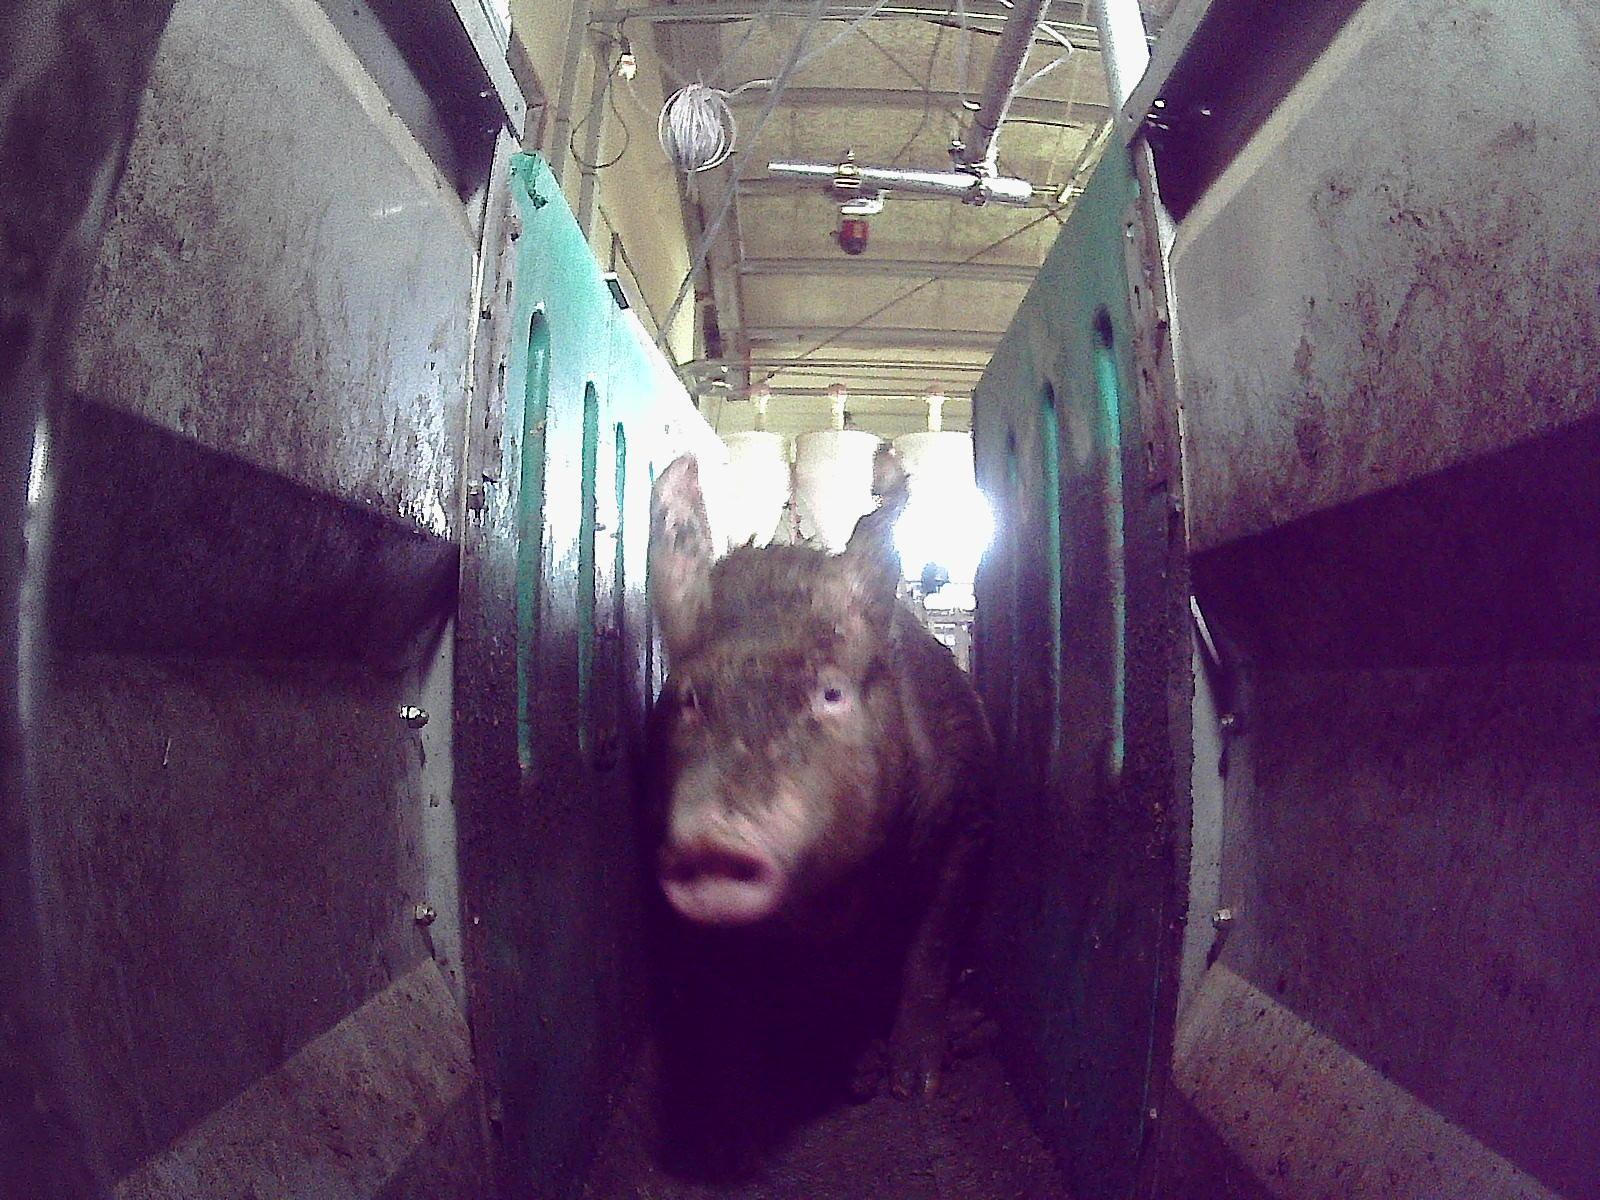Face: (647, 537, 905, 925)
